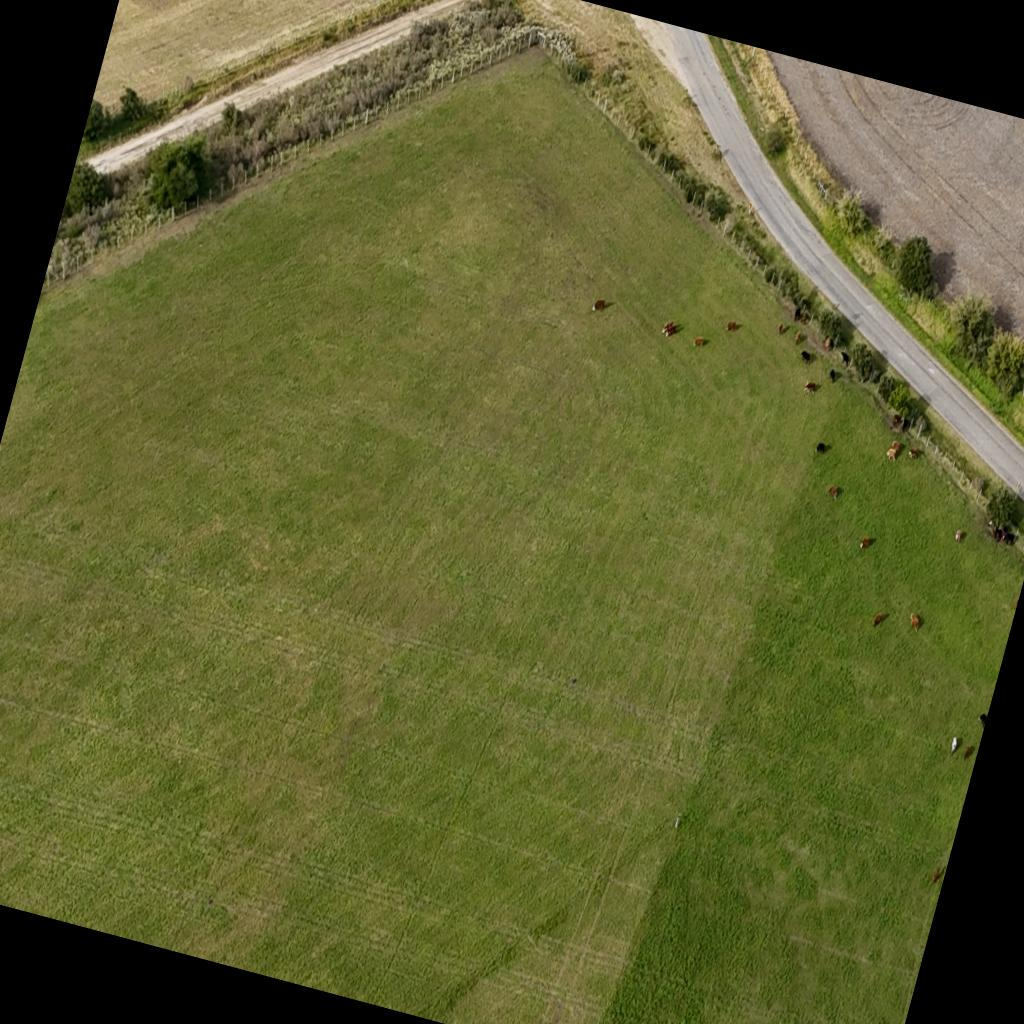cow: (928, 865, 944, 887), (906, 613, 922, 634), (990, 526, 1008, 544), (890, 413, 906, 432), (858, 534, 874, 552), (872, 610, 886, 630), (974, 712, 988, 732), (802, 380, 819, 396), (712, 142, 727, 160), (660, 318, 674, 337), (592, 298, 608, 314), (826, 484, 841, 501), (948, 735, 960, 756), (664, 320, 677, 339), (838, 351, 852, 367), (962, 744, 974, 762), (815, 442, 830, 456), (798, 350, 813, 364), (885, 446, 898, 462), (953, 528, 966, 544), (792, 306, 803, 324), (906, 447, 920, 461), (692, 336, 706, 350), (1004, 532, 1016, 548), (1010, 594, 1020, 612), (800, 311, 812, 325), (890, 440, 902, 454), (828, 369, 839, 383), (726, 318, 736, 331), (794, 330, 802, 346), (824, 336, 832, 351), (746, 202, 754, 217), (777, 323, 785, 337)
